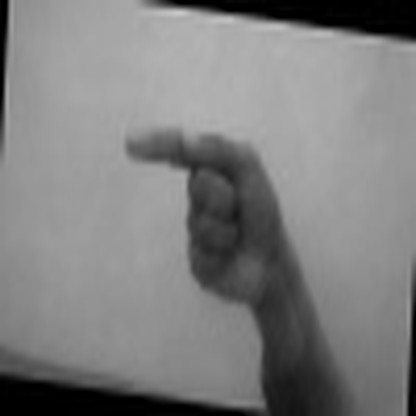g: (110, 119, 298, 303)
